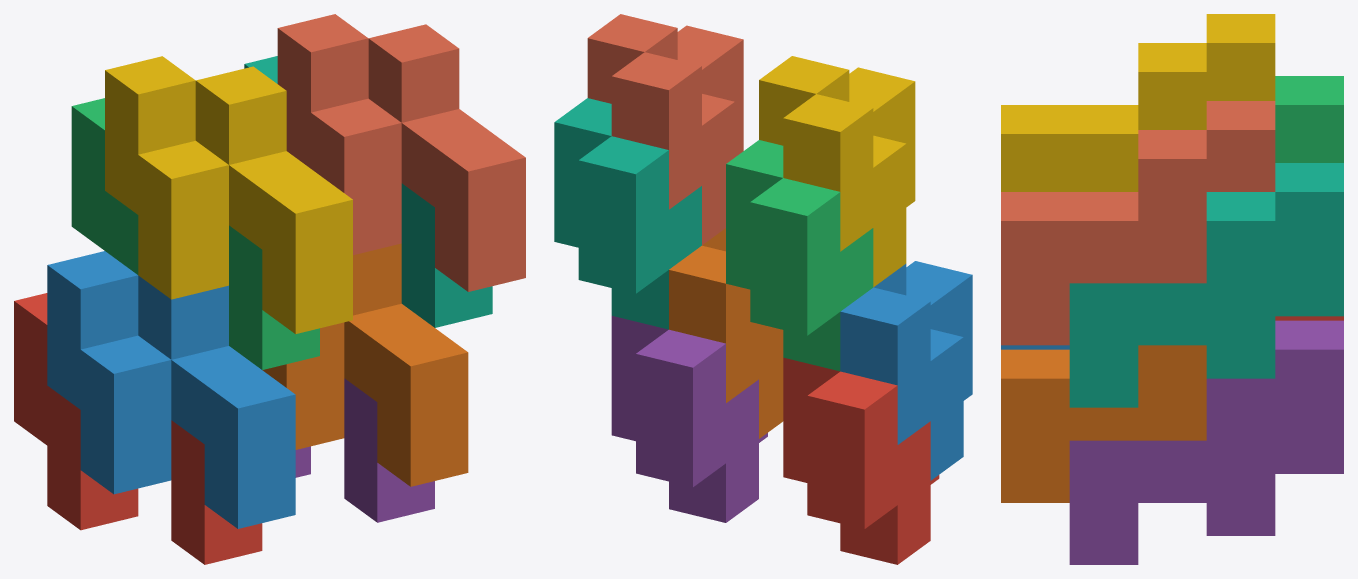
The model's file is tiling.obj.
The picture shows the model from 3 angles, left to right: view 1: azimuth 30°, elevation 25°; view 2: azimuth 150°, elevation 25°; view 3: azimuth 270°, elevation 25°; orthographic projection. The views are drawn at different scales.
Visible parts, largest first — view 1: copy_1_domain_4, copy_1_domain_2, copy_1_domain_8, copy_1_domain_6, copy_1_domain_1, copy_1_domain_3, copy_1_domain_7, copy_1_domain_5; view 2: copy_1_domain_4, copy_1_domain_1, copy_1_domain_5, copy_1_domain_3, copy_1_domain_7, copy_1_domain_8, copy_1_domain_2, copy_1_domain_6; view 3: copy_1_domain_7, copy_1_domain_5, copy_1_domain_8, copy_1_domain_4, copy_1_domain_6, copy_1_domain_3.
Part boxes in pixels (x1,y1,x2,y2): copy_1_domain_4: [105, 56, 352, 334]; copy_1_domain_2: [47, 251, 295, 528]; copy_1_domain_8: [277, 14, 525, 291]; copy_1_domain_6: [262, 243, 468, 486]; copy_1_domain_1: [14, 293, 262, 564]; copy_1_domain_3: [71, 98, 319, 369]; copy_1_domain_7: [244, 56, 492, 327]; copy_1_domain_5: [295, 378, 434, 522]; copy_1_domain_4: [759, 56, 915, 287]; copy_1_domain_1: [783, 357, 939, 564]; copy_1_domain_5: [611, 316, 767, 522]; copy_1_domain_3: [726, 140, 873, 371]; copy_1_domain_7: [554, 98, 701, 329]; copy_1_domain_8: [587, 14, 743, 245]; copy_1_domain_2: [840, 261, 972, 480]; copy_1_domain_6: [669, 228, 783, 438]; copy_1_domain_7: [1069, 163, 1343, 407]; copy_1_domain_5: [1069, 320, 1343, 564]; copy_1_domain_8: [1001, 101, 1275, 345]; copy_1_domain_4: [1001, 14, 1275, 191]; copy_1_domain_6: [1001, 345, 1206, 502]; copy_1_domain_3: [1275, 76, 1343, 162].
Size of the model in its own units: 6 by 7 by 5.
